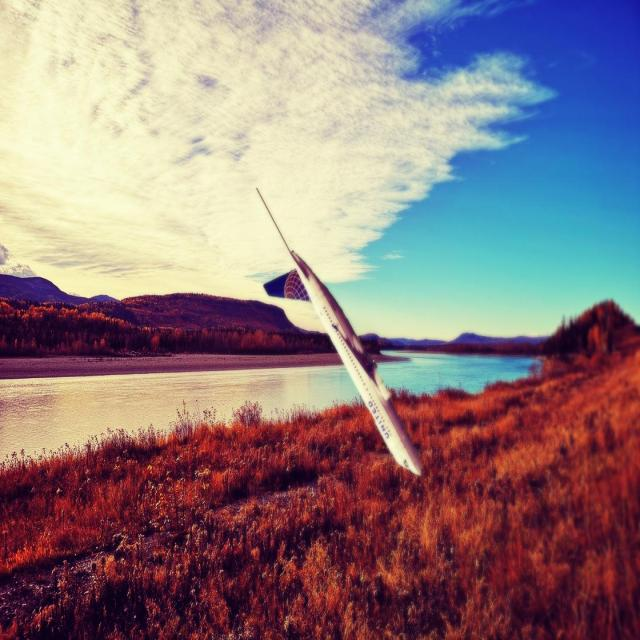airplane: (247, 186, 424, 477)
